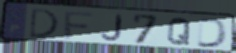7: (132, 13, 161, 46)
D: (195, 17, 230, 49), (28, 7, 61, 40)
F: (63, 10, 95, 40)
J: (100, 14, 124, 42)
Q: (166, 16, 194, 46)
